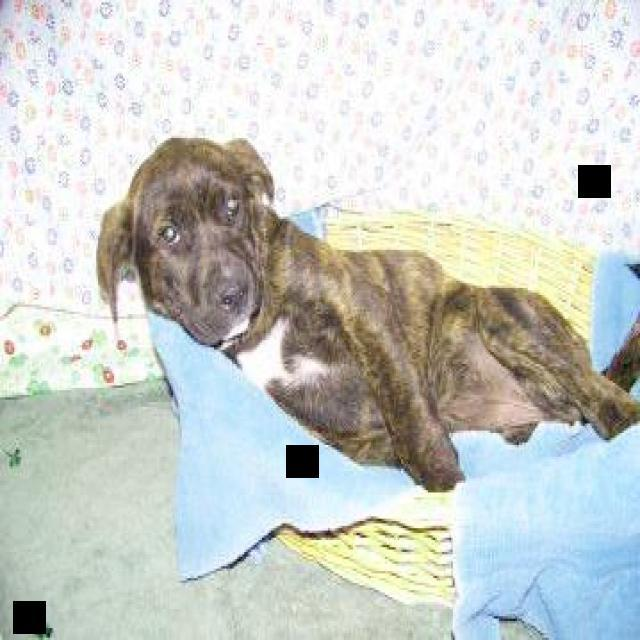puppy-dog: (98, 134, 640, 489)
